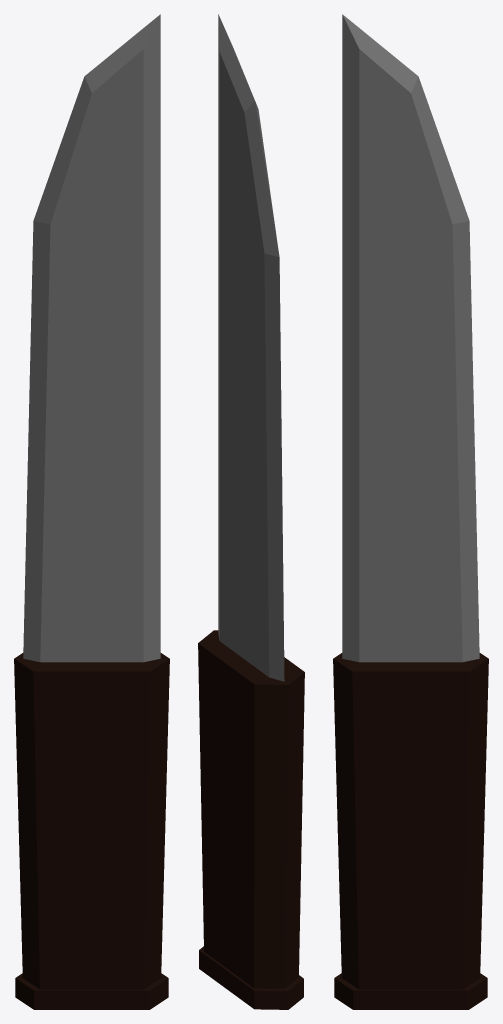
File: Knife.obj
The picture shows the model from 3 angles, left to right: view 1: azimuth 90°, elevation 25°; view 2: azimuth 210°, elevation 25°; view 3: azimuth 270°, elevation 25°; orthographic projection. The views are drawn at different scales.
Visible parts, largest first — view 1: Knife_Cube; view 2: Knife_Cube; view 3: Knife_Cube.
Part boxes in pixels (x1,y1,x2,y2): Knife_Cube: (14, 14, 169, 1009); Knife_Cube: (198, 14, 304, 1009); Knife_Cube: (333, 14, 488, 1009).
Bounding box in the file's own units: 0.0374 × 0.667 × 0.0959.
